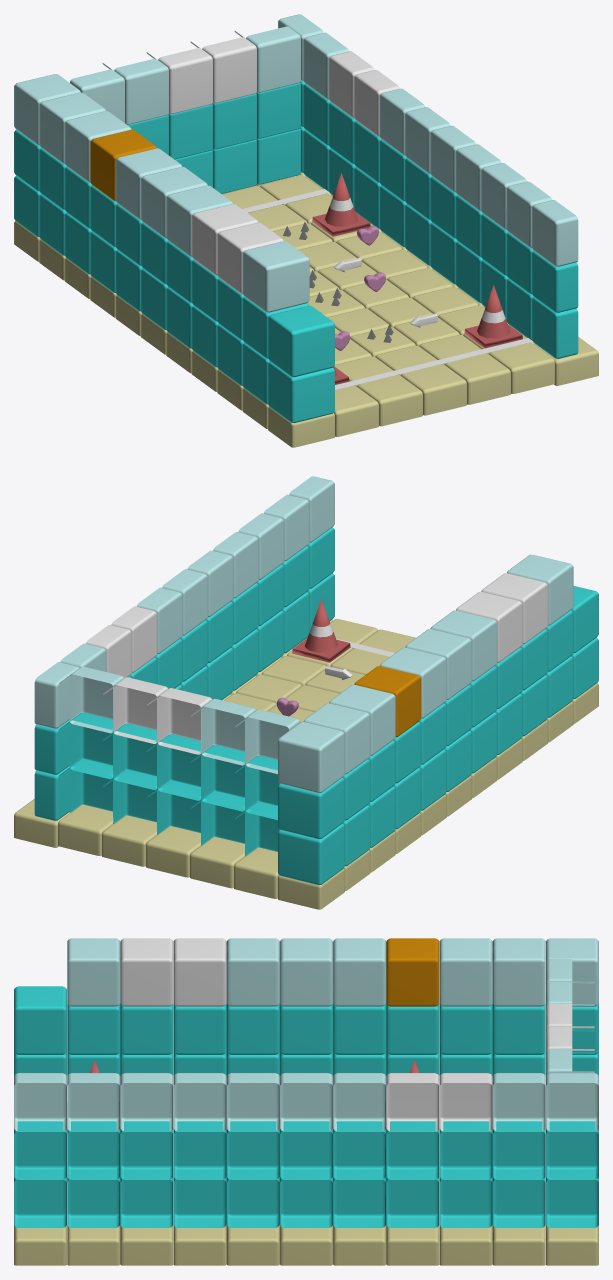
Rendered from team1.fbx.
3 renders of one model, top to bottom at view 1: azimuth 30°, elevation 25°; view 2: azimuth 150°, elevation 25°; view 3: azimuth 270°, elevation 25°, orthographic. The views are drawn at different scales.
Visible parts, largest first — view 1: polySurface400, polySurface384, polySurface350, polySurface471, polySurface468, polySurface465, polySurface462, polySurface449, polySurface396, polySurface404, polySurface403, polySurface399 (+104 smaller); view 2: polySurface398, polySurface392, polySurface355, polySurface468, polySurface471, polySurface465, polySurface462, polySurface403, polySurface405, polySurface396, polySurface402, polySurface399 (+85 smaller); view 3: polySurface396, polySurface403, polySurface405, polySurface404, polySurface395, polySurface400, polySurface399, polySurface402, polySurface384, polySurface401, polySurface429, polySurface431 (+69 smaller).
Part boxes in pixels (x1=…): polySurface400: x1=242, y1=241, x2=309, y2=312; polySurface384: x1=268, y1=306, x2=334, y2=377; polySurface350: x1=268, y1=361, x2=334, y2=423; polySurface471: x1=246, y1=20, x2=300, y2=92; polySurface468: x1=202, y1=31, x2=256, y2=103; polySurface465: x1=158, y1=41, x2=212, y2=113; polySurface462: x1=114, y1=52, x2=168, y2=124; polySurface449: x1=532, y1=200, x2=578, y2=266; polySurface396: x1=64, y1=111, x2=131, y2=182; polySurface404: x1=191, y1=204, x2=258, y2=275; polySurface403: x1=217, y1=222, x2=283, y2=293; polySurface399: x1=115, y1=148, x2=182, y2=219; polySurface398: x1=278, y1=722, x2=344, y2=793; polySurface392: x1=278, y1=777, x2=344, y2=839; polySurface355: x1=278, y1=823, x2=344, y2=885; polySurface468: x1=103, y1=677, x2=168, y2=743; polySurface471: x1=59, y1=666, x2=123, y2=733; polySurface465: x1=147, y1=688, x2=212, y2=754; polySurface462: x1=191, y1=698, x2=255, y2=765; polySurface403: x1=481, y1=573, x2=548, y2=644; polySurface405: x1=354, y1=666, x2=421, y2=737; polySurface396: x1=329, y1=684, x2=395, y2=755; polySurface402: x1=430, y1=610, x2=497, y2=681; polySurface399: x1=380, y1=647, x2=446, y2=718; polySurface396: x1=439, y1=938, x2=492, y2=1006; polySurface403: x1=120, y1=938, x2=173, y2=1006; polySurface405: x1=386, y1=938, x2=439, y2=1006; polySurface404: x1=173, y1=938, x2=226, y2=1006; polySurface395: x1=492, y1=938, x2=545, y2=1006; polySurface400: x1=67, y1=938, x2=120, y2=1006; polySurface399: x1=333, y1=938, x2=386, y2=1006; polySurface402: x1=226, y1=938, x2=279, y2=1006; polySurface384: x1=14, y1=986, x2=66, y2=1054; polySurface401: x1=280, y1=938, x2=332, y2=1006; polySurface429: x1=120, y1=1169, x2=173, y2=1227; polySurface431: x1=226, y1=1169, x2=279, y2=1227.
Size of the model in its own units: 69.9 by 35.98 by 110.
